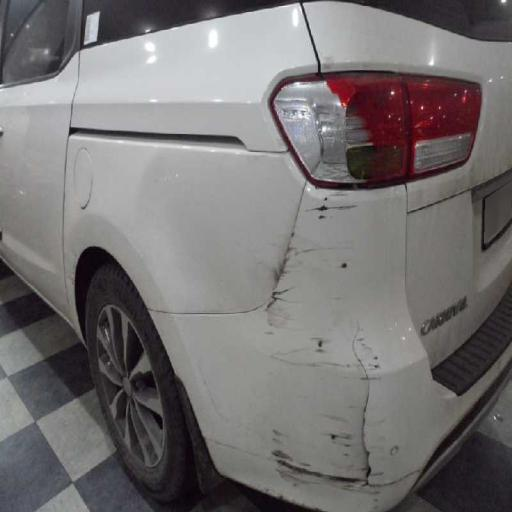scratch: (237, 154, 429, 499)
